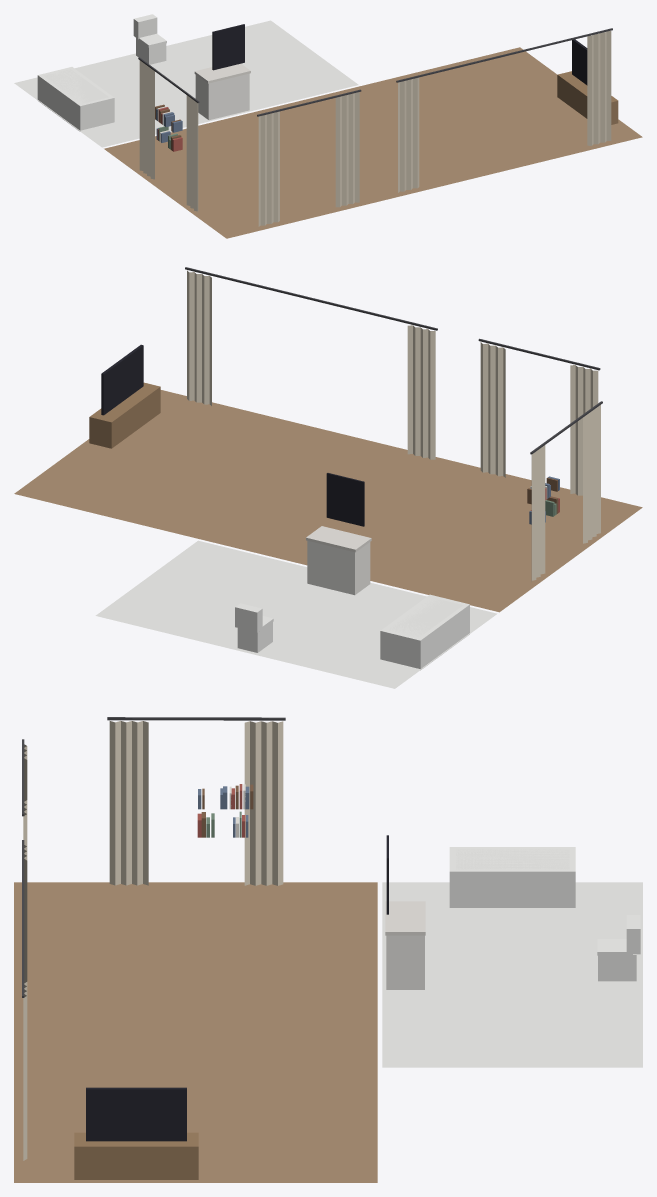
Rendered from fine-s2.glb.
The picture shows the model from 3 angles, top to bottom: view 1: azimuth 30°, elevation 25°; view 2: azimuth 150°, elevation 25°; view 3: azimuth 270°, elevation 25°; orthographic projection. The views are drawn at different scales.
Visible parts, largest first — view 1: soft-s2, vanity.001, bathtub.001, tv-console.001, toilet.001; view 2: soft-s2, vanity.001, bathtub.001, tv-console.001, toilet.001; view 3: soft-s2, tv-console.001, bathtub.001, vanity.001, toilet.001.
Part boxes in pixels (left/top/right/bottom): soft-s2: left=14, top=20, right=642, bottom=238; vanity.001: left=194, top=24, right=250, bottom=120; bathtub.001: left=37, top=67, right=114, bottom=131; tv-console.001: left=557, top=39, right=618, bottom=124; toilet.001: left=133, top=14, right=166, bottom=64; soft-s2: left=14, top=267, right=642, bottom=688; vanity.001: left=306, top=473, right=371, bottom=595; bathtub.001: left=380, top=594, right=469, bottom=670; tv-console.001: left=89, top=344, right=160, bottom=448; toilet.001: left=235, top=603, right=273, bottom=652; soft-s2: left=14, top=717, right=642, bottom=1182; tv-console.001: left=74, top=1087, right=198, bottom=1179; bathtub.001: left=449, top=847, right=575, bottom=907; vanity.001: left=385, top=835, right=425, bottom=989; toilet.001: left=597, top=915, right=640, bottom=981.
Bounding box in the file's own units: 9.16 × 2.41 × 8.11.
